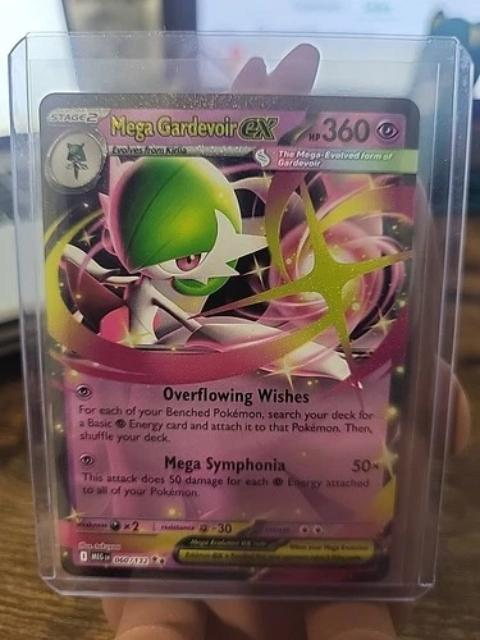Card: (33, 89, 424, 587)
Name: (103, 108, 285, 147)
